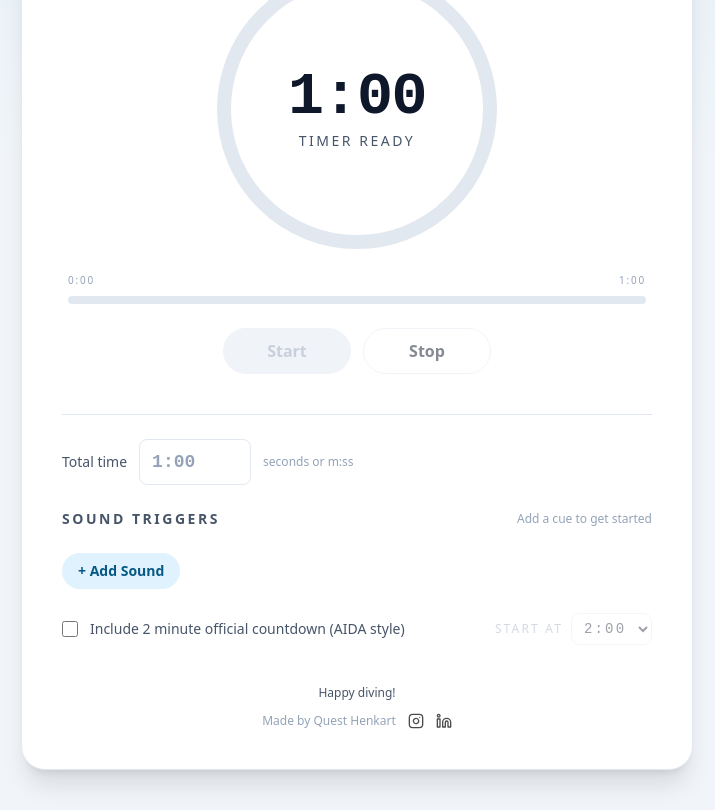
Test: TimerSoundApp › uses Date.now-based timing so elapsed reflects wall time
(page scrolled)
Click the button "+ Add Sound". click: (121, 571)
box: [62,553,180,589]
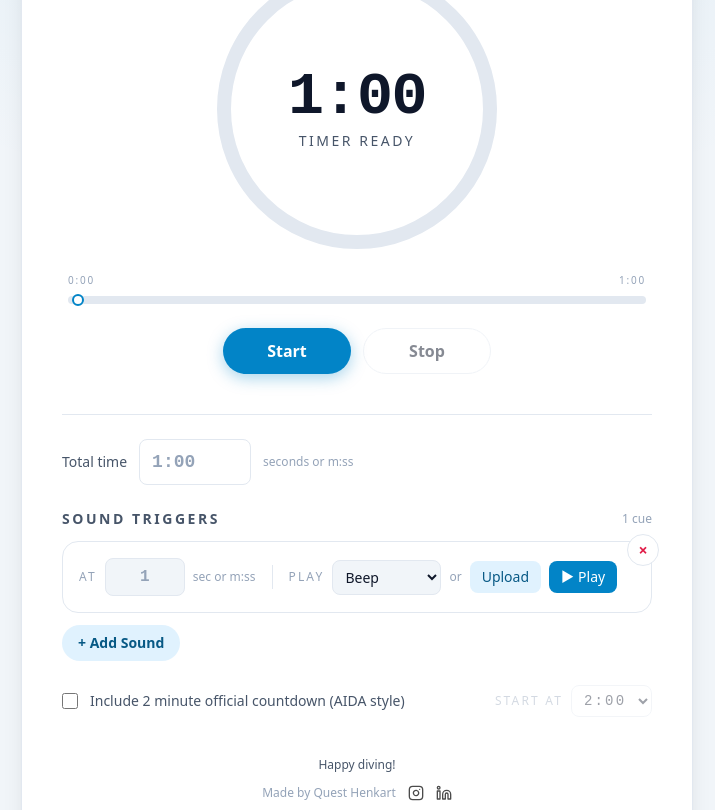
Select "Ding" in the 1st dropdown. click: (387, 577)
box: [332,560,441,594]
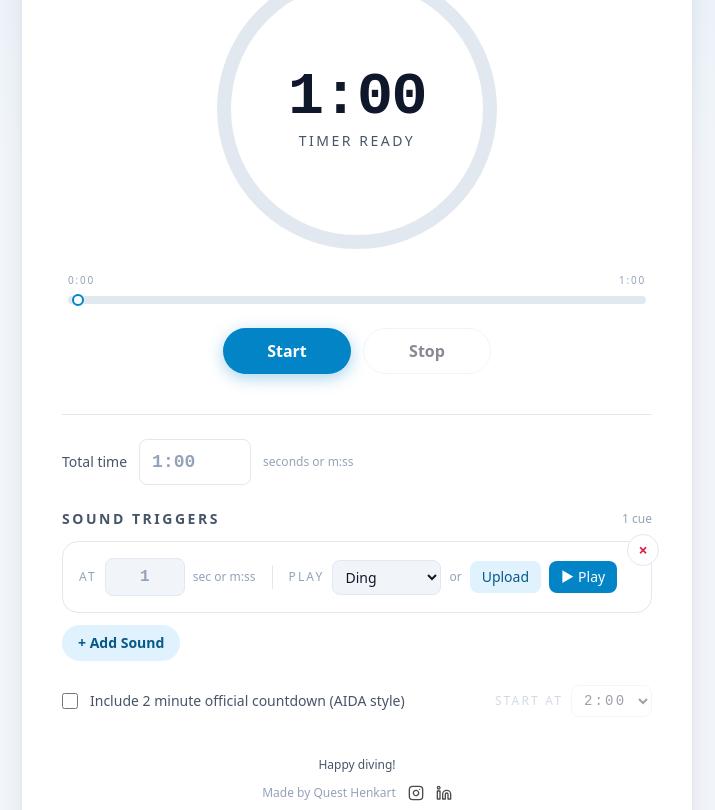
Click the button "Start". click: (287, 351)
box: [223,328,351,374]
Wait 5000 ms
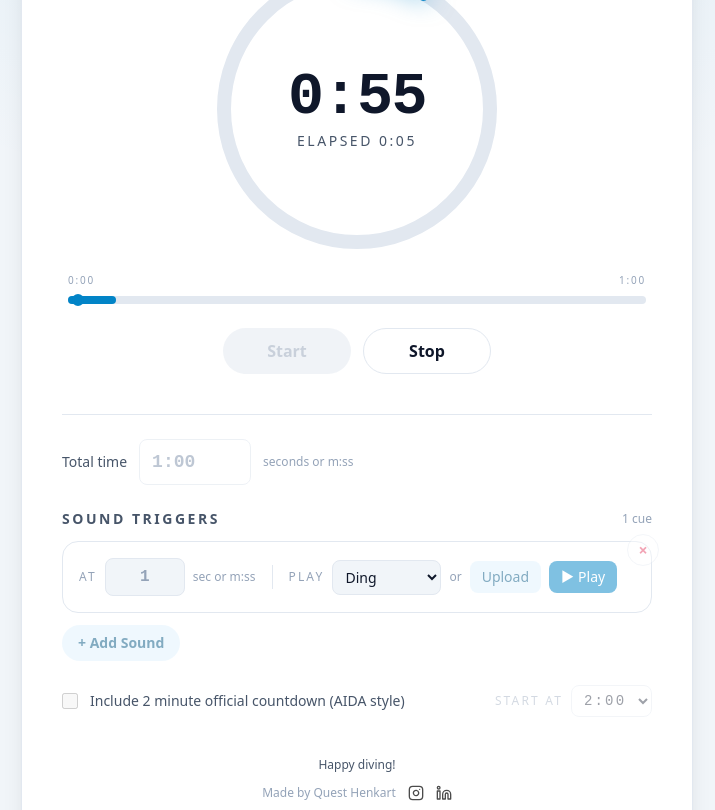
Expected: the text "Elapsed 0:05" is shown, [297,131,417,151]
Expected: the text "0:55" is shown, [288,67,426,127]
